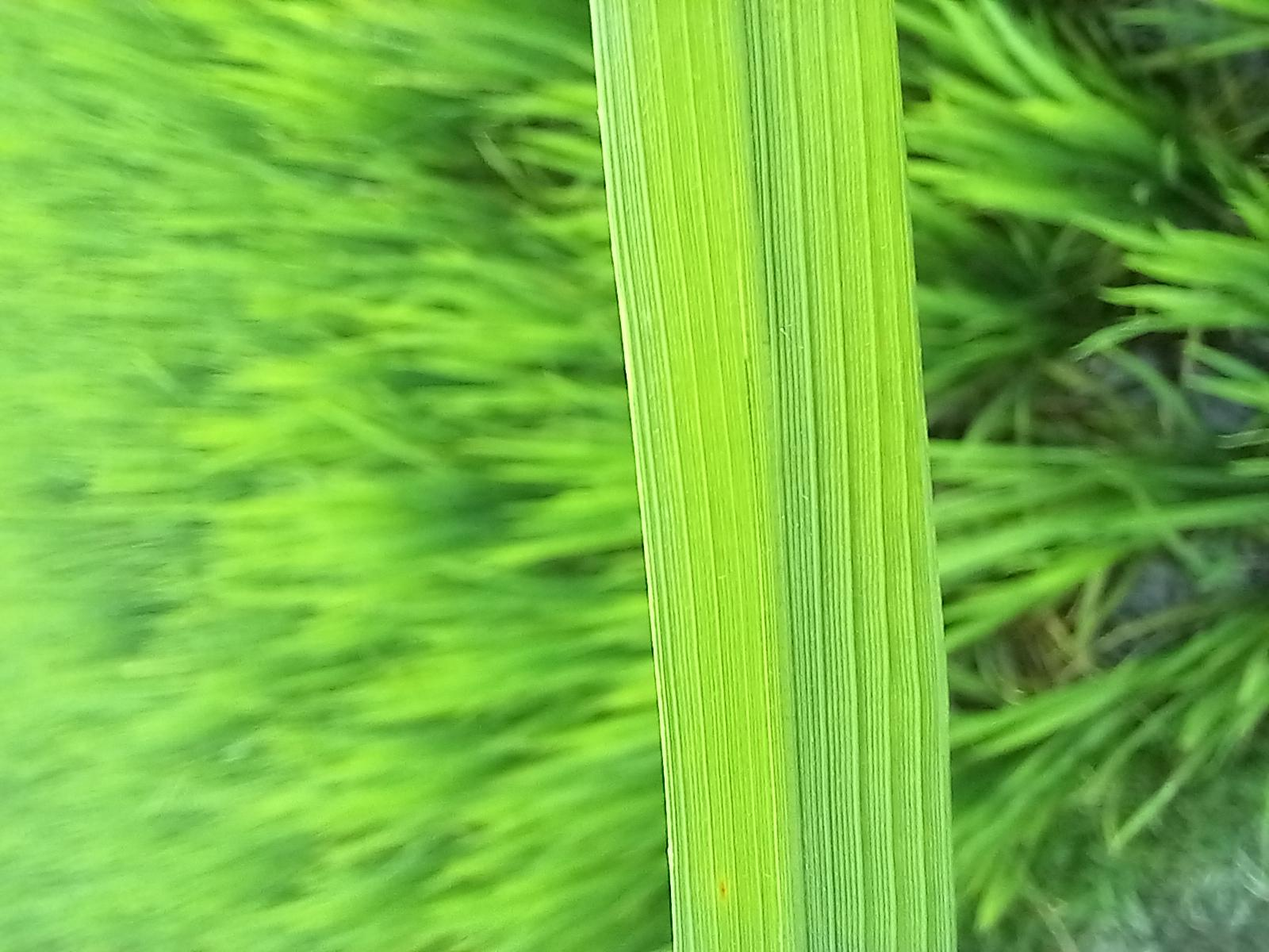Healthy: (0, 444, 1268, 716)
